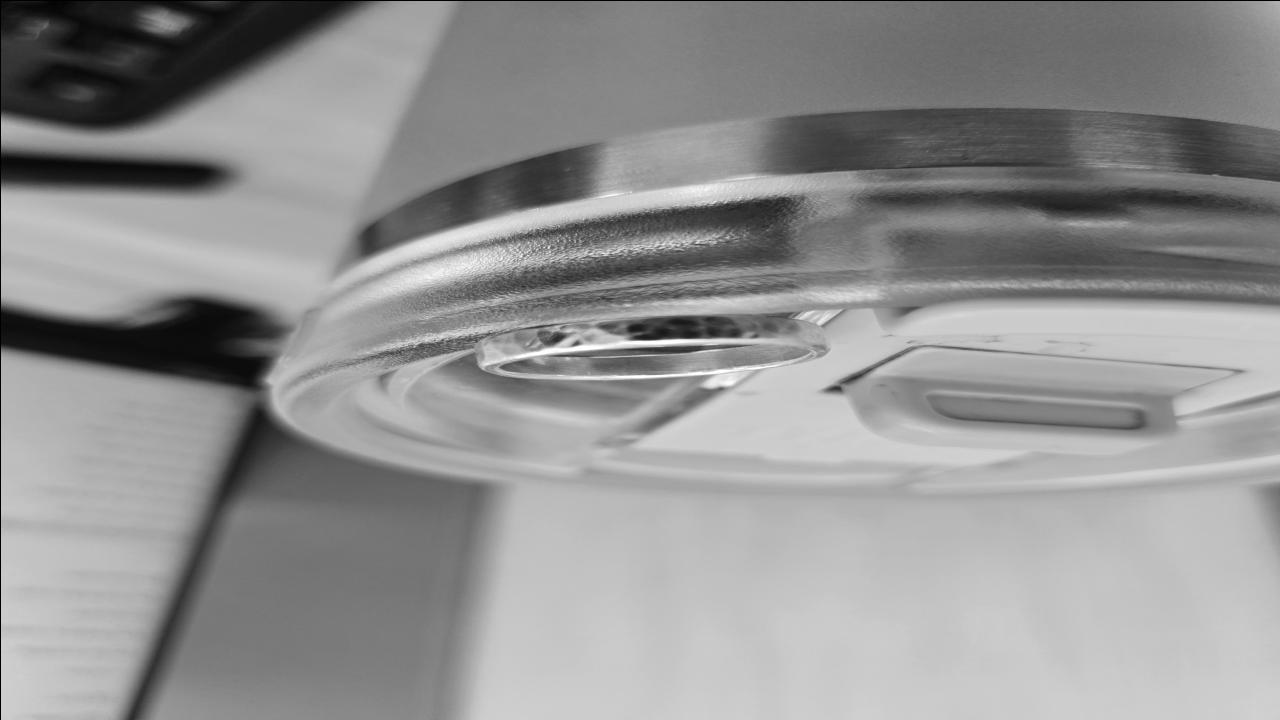ring: (473, 314, 825, 382)
